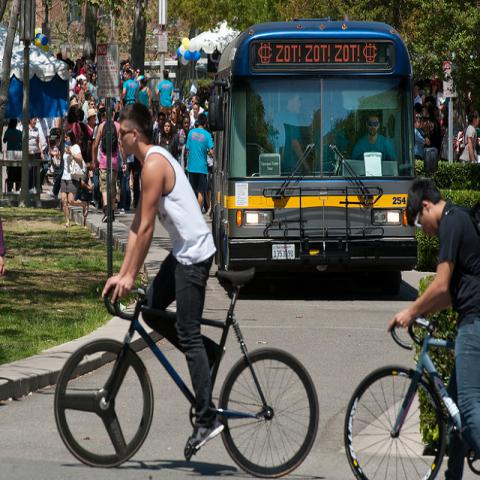bus: (208, 27, 419, 270)
